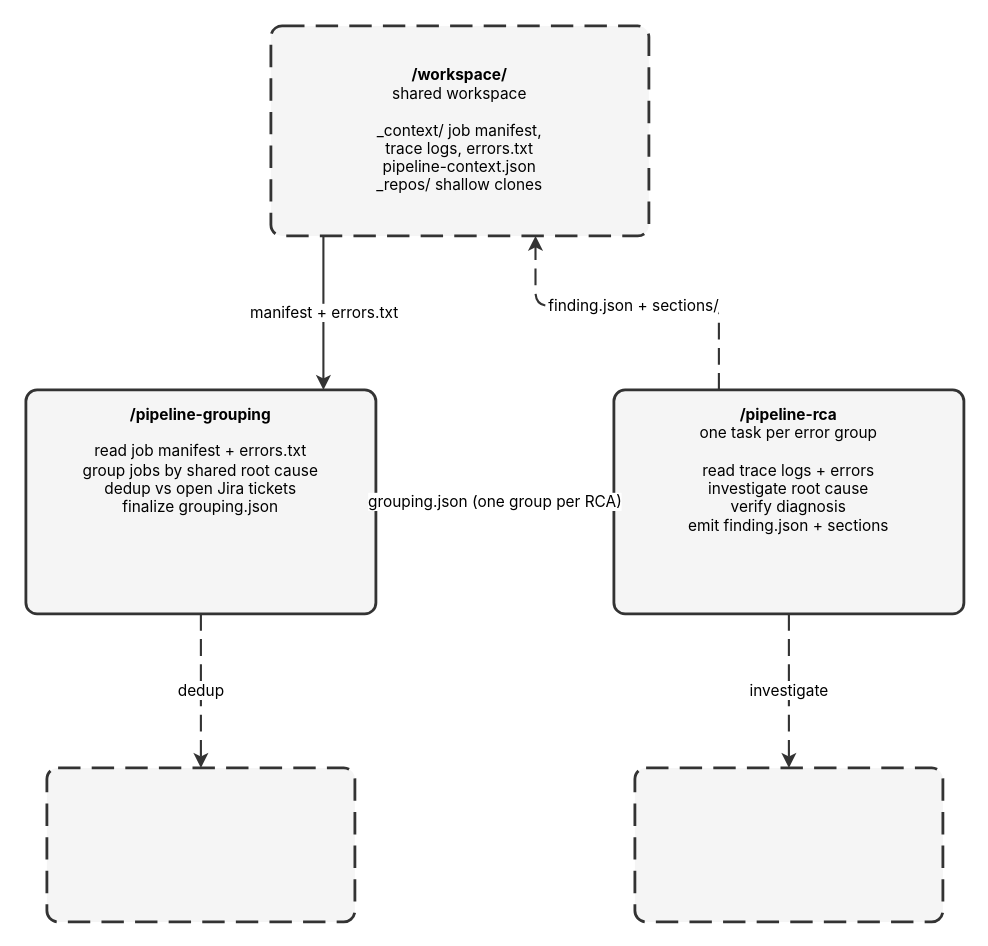
Image size: 988x946. Some labels were removed from this diagram. The centre of each missing label's shape, as x and y in pixels:
"GitLab API via glab files at commit SHA commit history job artifacts" belongs at point (788, 844).
"Jira redhat.atlassian.net recent-tickets.json dedup existing failures" belongs at point (200, 844).
